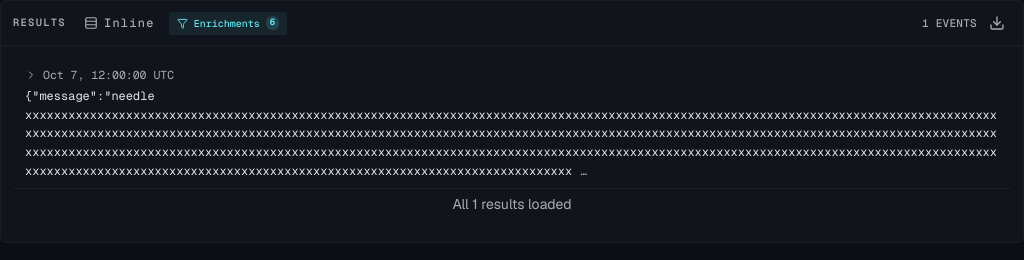
Test case: long message expander and value menus › the "…" expander expands and collapses again without toggling the row
Click the button named "Expand message" at (584,171), box [576,162,591,180]
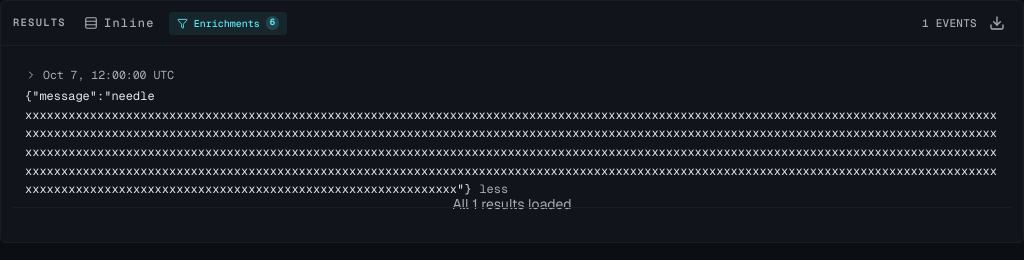
Expected: the button with aria-label "Collapse message" is shown
Click the button with aria-label "Collapse message" at (494,190), box [475,180,512,199]
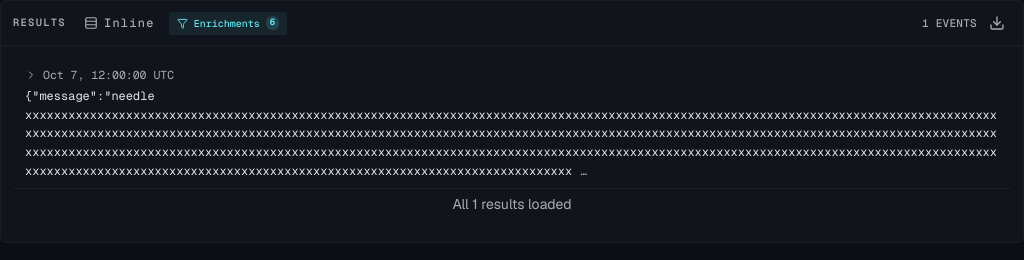
Expected: the button named "Expand message" is shown, [576,162,591,180]
